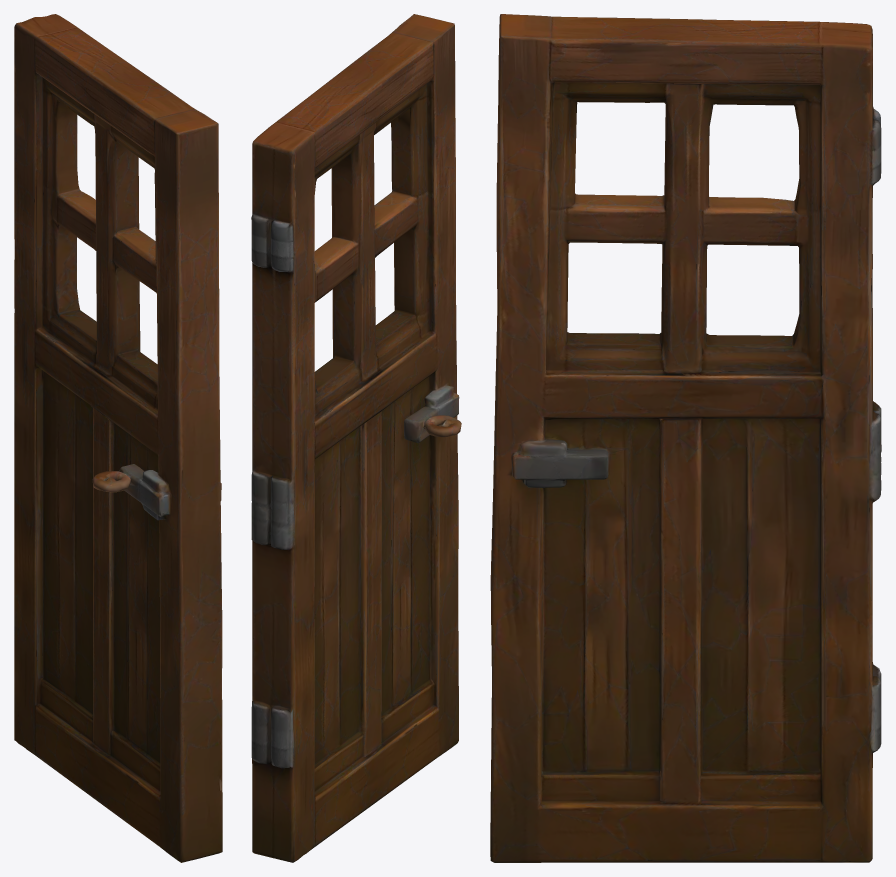
Rendered from door.glb.
3 renders of one model, left to right at view 1: azimuth 30°, elevation 25°; view 2: azimuth 150°, elevation 25°; view 3: azimuth 270°, elevation 25°, orthographic. The views are drawn at different scales.
Visible parts, largest first — view 1: tripo_node_837ae932-25ee-4afb-bcae-543301aa2368; view 2: tripo_node_837ae932-25ee-4afb-bcae-543301aa2368; view 3: tripo_node_837ae932-25ee-4afb-bcae-543301aa2368.
Part boxes in pixels (box(x1,y1,x2,y2)): tripo_node_837ae932-25ee-4afb-bcae-543301aa2368: box(14, 14, 222, 862); tripo_node_837ae932-25ee-4afb-bcae-543301aa2368: box(251, 14, 461, 862); tripo_node_837ae932-25ee-4afb-bcae-543301aa2368: box(490, 14, 881, 862).
Size of the model in its own units: 0.1345 by 0.9999 by 0.4286.
Materials: 1 (1 with a texture image).
